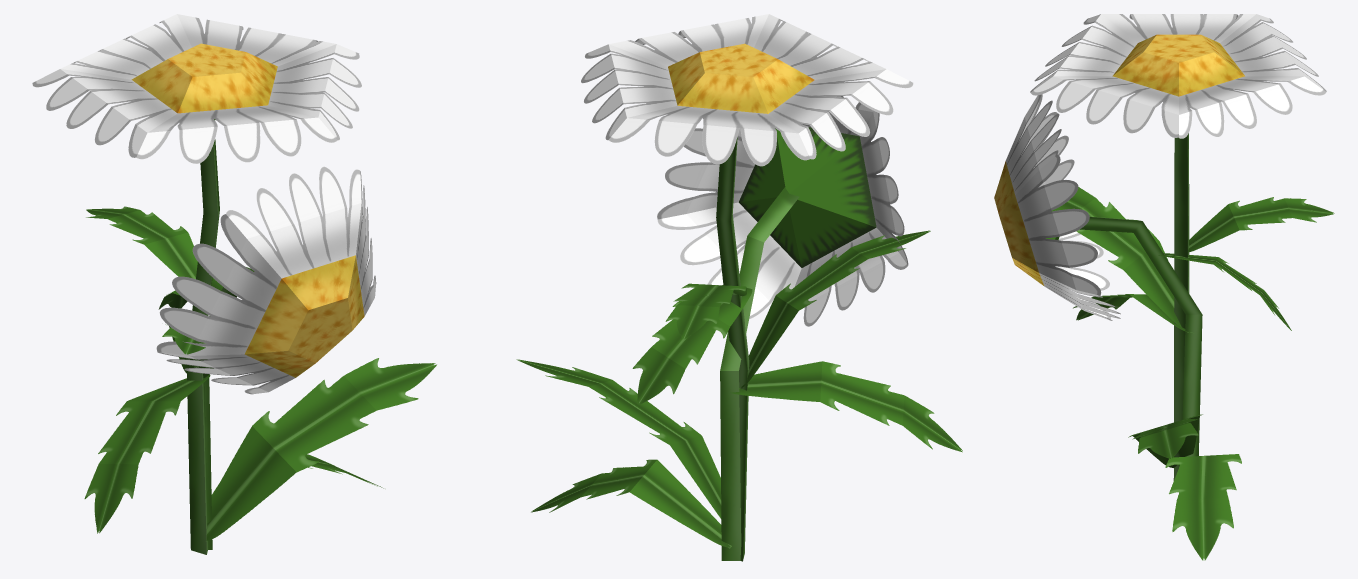
Rendered from daisy.fbx.
The picture shows the model from 3 angles, left to right: view 1: azimuth 30°, elevation 25°; view 2: azimuth 150°, elevation 25°; view 3: azimuth 270°, elevation 25°; orthographic projection. The views are drawn at different scales.
Visible parts, largest first — view 1: desat_petals_bloom, desat_petals_wilt, leaf1_bloom, top_wilt, top_bloom, leaf3_wilt, stem_bloom, leaf2_bloom, stem_wilt, leaf3_bloom; view 2: desat_petals_bloom, desat_petals_wilt, bulb_wilt, top_bloom, leaf3_wilt, stem_wilt, leaf1_wilt, leaf1_bloom, leaf3_bloom, stem_bloom, leaf2_wilt, leaf2_bloom; view 3: desat_petals_bloom, desat_petals_wilt, top_bloom, leaf1_wilt, stem_wilt, leaf3_bloom, stem_bloom, leaf2_bloom, top_wilt, leaf1_bloom, leaf2_wilt, leaf3_wilt.
Part boxes in pixels (x1,y1,x2,y2): desat_petals_bloom: [32, 14, 361, 163]; desat_petals_wilt: [156, 166, 376, 394]; leaf1_bloom: [205, 358, 436, 541]; top_wilt: [244, 255, 364, 377]; top_bloom: [131, 43, 277, 113]; leaf3_wilt: [84, 374, 210, 533]; stem_bloom: [187, 139, 219, 554]; leaf2_bloom: [86, 206, 197, 278]; stem_wilt: [204, 267, 254, 549]; leaf3_bloom: [162, 324, 213, 377]; desat_petals_bloom: [581, 14, 913, 166]; desat_petals_wilt: [657, 96, 908, 326]; bulb_wilt: [738, 127, 876, 267]; top_bloom: [668, 43, 814, 113]; leaf3_wilt: [730, 361, 962, 452]; stem_wilt: [720, 187, 799, 560]; leaf1_wilt: [531, 459, 731, 548]; leaf1_bloom: [516, 359, 721, 518]; leaf3_bloom: [740, 230, 930, 388]; stem_bloom: [716, 137, 749, 561]; leaf2_wilt: [632, 285, 752, 404]; leaf2_bloom: [665, 283, 746, 339]; desat_petals_bloom: [1030, 14, 1326, 138]; desat_petals_wilt: [1005, 94, 1120, 320]; top_bloom: [1112, 34, 1244, 96]; leaf1_wilt: [1165, 454, 1241, 560]; stem_wilt: [1080, 216, 1202, 456]; leaf3_bloom: [1057, 187, 1181, 327]; stem_bloom: [1173, 133, 1189, 480]; leaf2_bloom: [1188, 197, 1334, 252]; top_wilt: [994, 161, 1043, 285]; leaf1_bloom: [1128, 414, 1202, 467]; leaf2_wilt: [1158, 253, 1291, 330]; leaf3_wilt: [1073, 294, 1193, 333].
Size of the model in its own units: 0.8193 by 0.9238 by 0.6714.
Materials: 3 (3 with a texture image).
